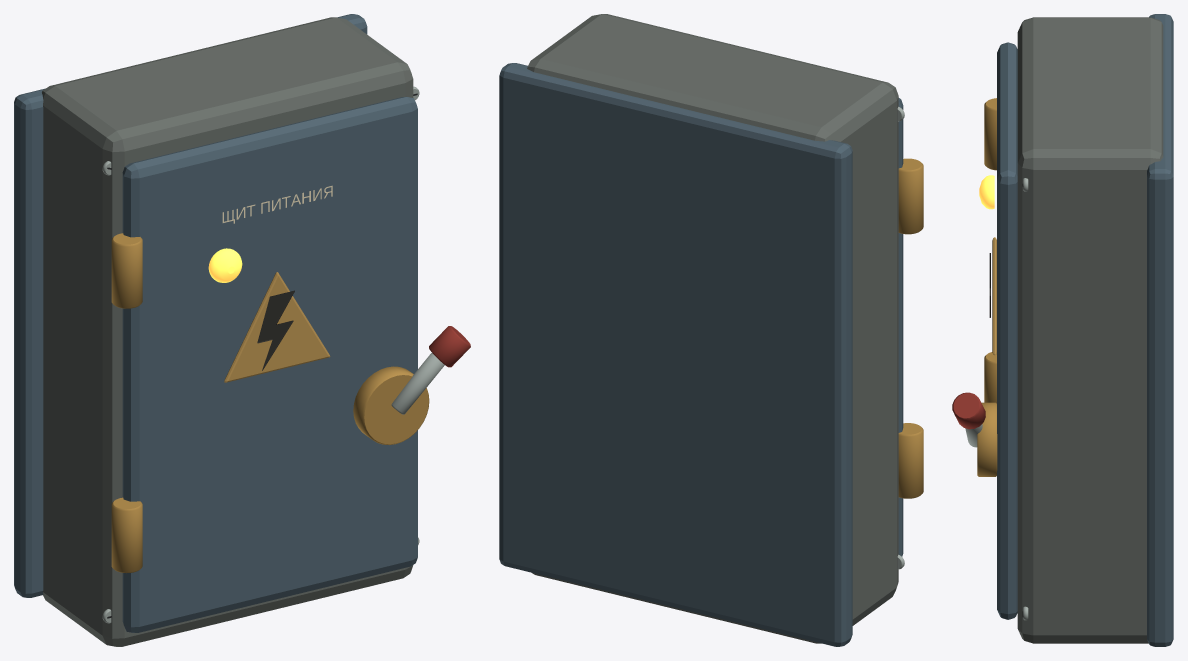
File: PowerDisconnectPanel.fbx
The picture shows the model from 3 angles, left to right: view 1: azimuth 30°, elevation 25°; view 2: azimuth 150°, elevation 25°; view 3: azimuth 270°, elevation 25°; orthographic projection. The views are drawn at different scales.
Parts seen in each view (by area): view 1: Hinged steel door, Panel enclosure, Mounting back plate, High voltage warning, Disconnect hub, Door hinge barrel, Door hinge barrel.001, Lightning mark, Switch arm, Red handle, Voltage indicator; view 2: Mounting back plate, Panel enclosure, Door hinge barrel.001, Door hinge barrel, Hinged steel door; view 3: Panel enclosure, Mounting back plate, Hinged steel door, Disconnect hub, Red handle, Door hinge barrel.001, Door hinge barrel, High voltage warning, Voltage indicator.
Part boxes in pixels (x1,y1,x2,y2): Hinged steel door: [122, 96, 417, 632]; Panel enclosure: [42, 17, 413, 646]; Mounting back plate: [14, 14, 367, 597]; High voltage warning: [224, 272, 330, 382]; Disconnect hub: [353, 366, 429, 444]; Door hinge barrel: [111, 497, 142, 572]; Door hinge barrel.001: [111, 233, 142, 308]; Lightning mark: [257, 290, 294, 370]; Switch arm: [391, 353, 444, 414]; Red handle: [429, 326, 470, 367]; Voltage indicator: [208, 248, 242, 282]; Mounting back plate: [499, 63, 852, 646]; Panel enclosure: [527, 14, 898, 643]; Door hinge barrel.001: [898, 158, 923, 234]; Door hinge barrel: [898, 423, 923, 498]; Hinged steel door: [898, 98, 903, 556]; Panel enclosure: [1017, 17, 1163, 643]; Mounting back plate: [1147, 14, 1173, 646]; Hinged steel door: [997, 42, 1017, 619]; Disconnect hub: [977, 402, 997, 476]; Red handle: [952, 392, 985, 429]; Door hinge barrel.001: [984, 98, 996, 170]; Door hinge barrel: [984, 352, 996, 403]; High voltage warning: [992, 237, 996, 355]; Voltage indicator: [979, 175, 994, 209].
Size of the model in its own units: 0.5214 by 0.7593 by 0.2981.
